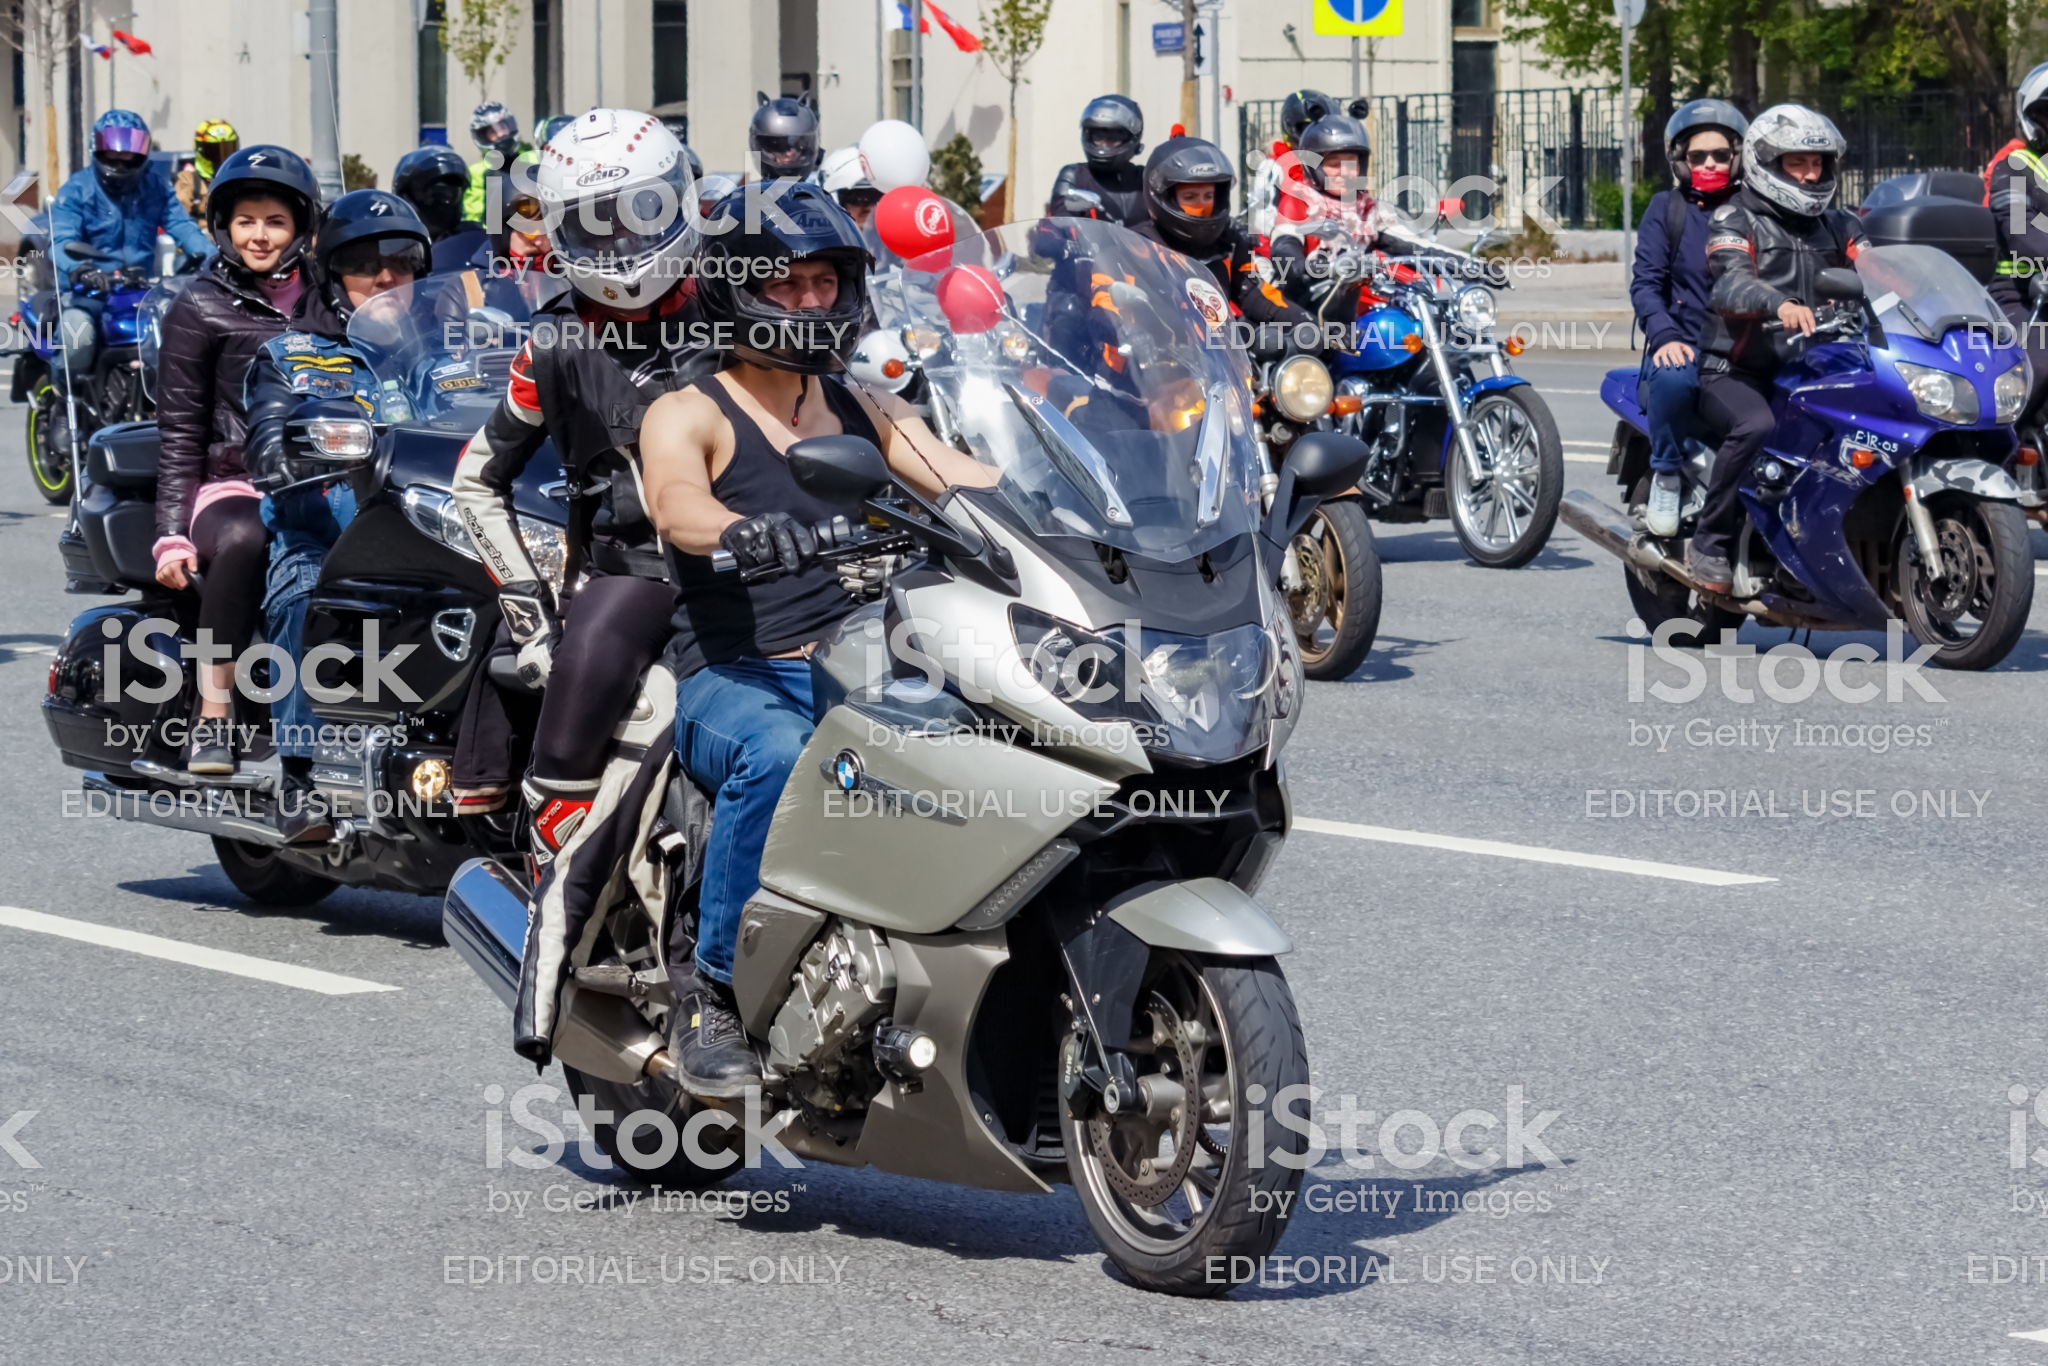helmet: (510, 120, 734, 281), (704, 194, 888, 370), (190, 143, 341, 227), (302, 191, 453, 255)
